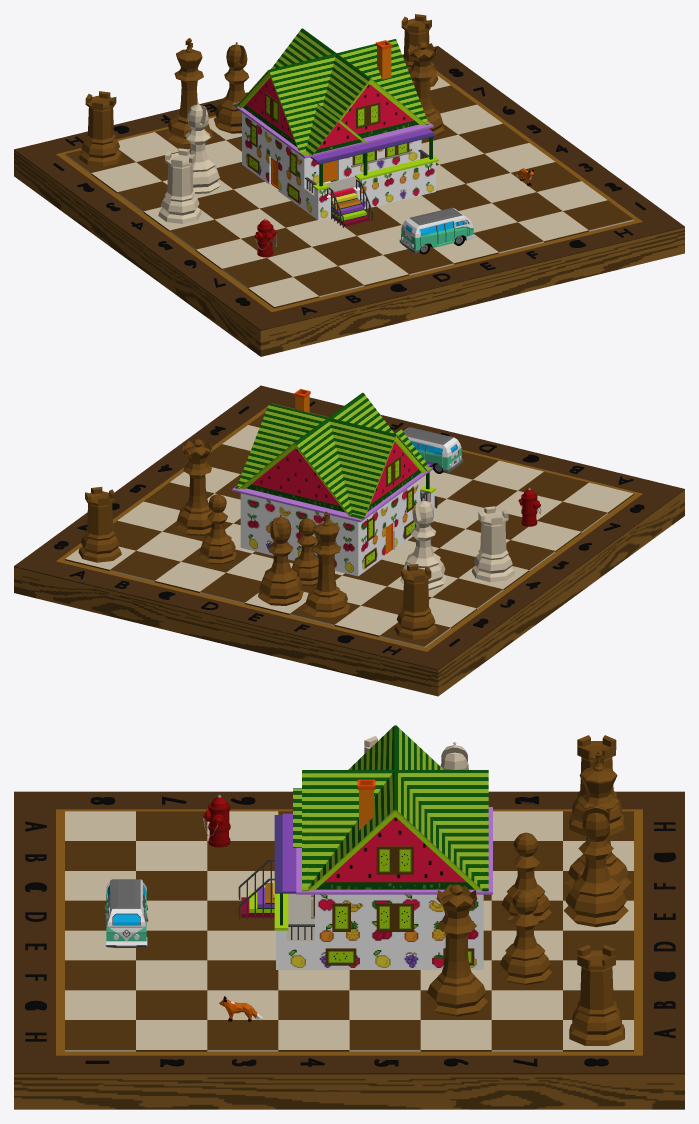
3 renders of one model, top to bottom at view 1: azimuth 30°, elevation 25°; view 2: azimuth 150°, elevation 25°; view 3: azimuth 270°, elevation 25°, orthographic. The views are drawn at different scales.
Visible parts, largest first — view 1: Cube.002, Cube.1063, VEHICLES_VAN, OBJRANDOM_FIRE_HYDRANT; view 2: Cube.002, Cube.1063, VEHICLES_VAN, OBJRANDOM_FIRE_HYDRANT; view 3: Cube.002, Cube.1063, VEHICLES_VAN, OBJRANDOM_FIRE_HYDRANT.
Boxes of the visible parts, left/top/right/bottom form: Cube.002: left=14, top=14, right=684, bottom=356; Cube.1063: left=232, top=28, right=438, bottom=227; VEHICLES_VAN: left=399, top=207, right=475, bottom=254; OBJRANDOM_FIRE_HYDRANT: left=254, top=218, right=276, bottom=257; Cube.002: left=14, top=385, right=684, bottom=696; Cube.1063: left=232, top=389, right=437, bottom=576; VEHICLES_VAN: left=403, top=427, right=463, bottom=473; OBJRANDOM_FIRE_HYDRANT: left=518, top=487, right=541, bottom=526; Cube.002: left=14, top=735, right=684, bottom=1109; Cube.1063: left=238, top=725, right=492, bottom=969; VEHICLES_VAN: left=104, top=879, right=148, bottom=947; OBJRANDOM_FIRE_HYDRANT: left=203, top=794, right=230, bottom=847.
Size of the model in its own units: 3981 by 1488 by 4012.
34 materials, 4 textured.
